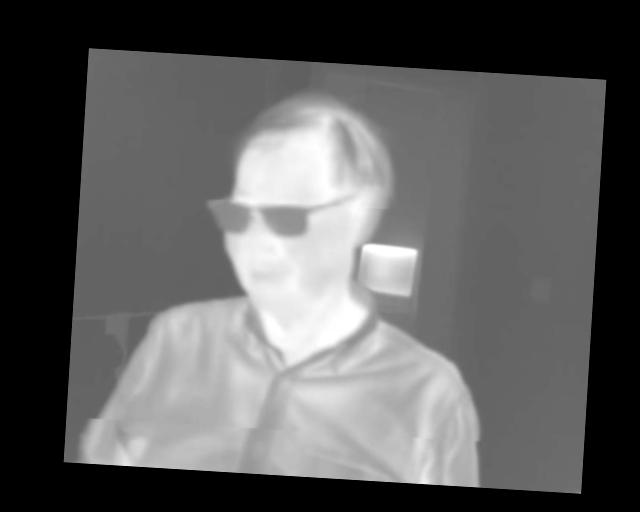face: (213, 83, 400, 308)
